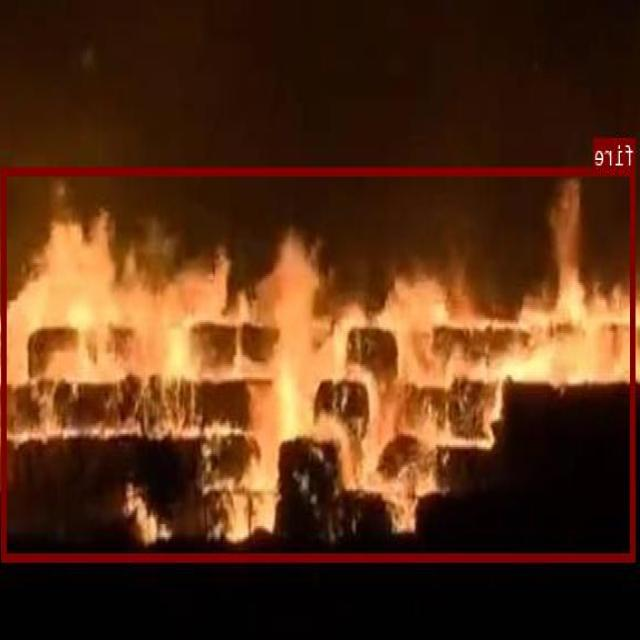fire: (3, 165, 636, 560)
